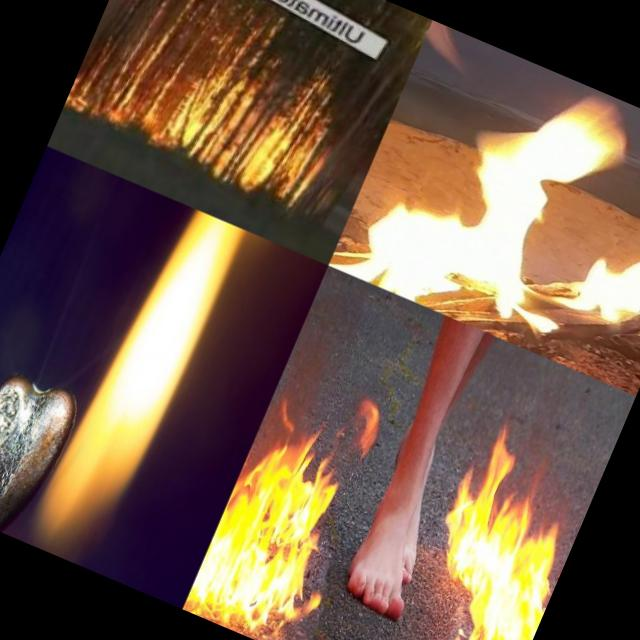fire: (328, 20, 640, 395), (20, 195, 256, 578), (63, 0, 352, 209), (182, 362, 398, 640), (371, 402, 610, 640)
